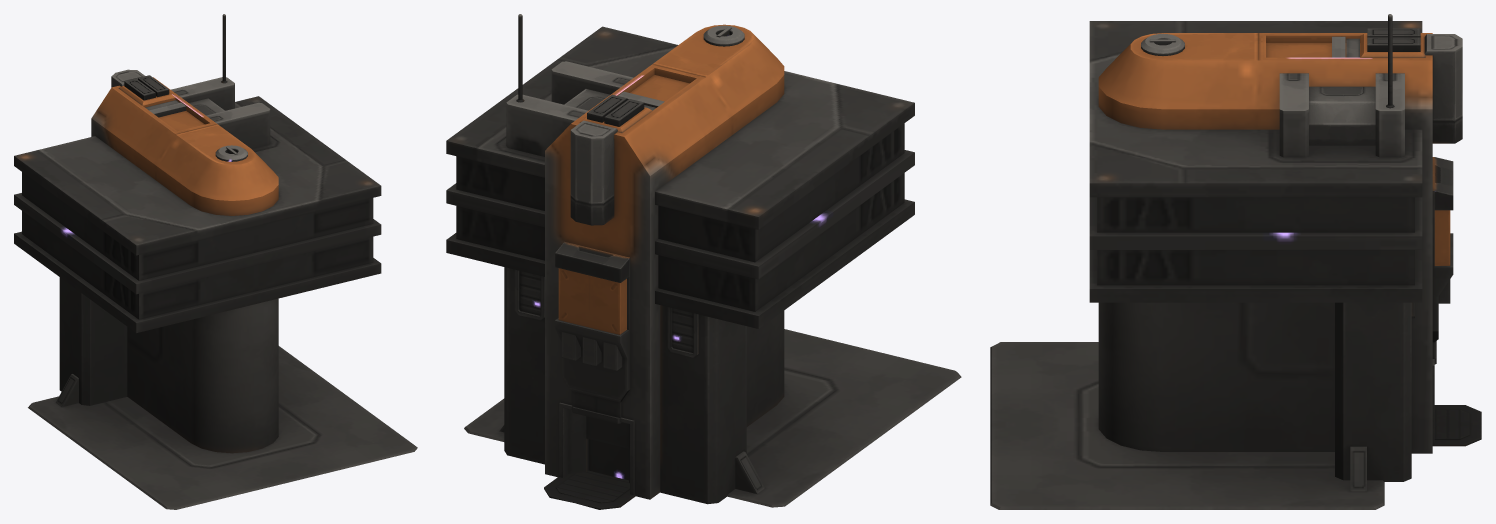
The model's file is WarAcademyAnnex.fbx.
The picture shows the model from 3 angles, left to right: view 1: azimuth 30°, elevation 25°; view 2: azimuth 150°, elevation 25°; view 3: azimuth 270°, elevation 25°; orthographic projection. The views are drawn at different scales.
Parts seen in each view (by area): view 1: Indoctrination_Center; view 2: Indoctrination_Center; view 3: Indoctrination_Center.
Part boxes in pixels (x1,y1,x2,y2): Indoctrination_Center: [14, 14, 417, 509]; Indoctrination_Center: [446, 14, 961, 509]; Indoctrination_Center: [990, 14, 1481, 509].
Size of the model in its own units: 232 by 301 by 289.
